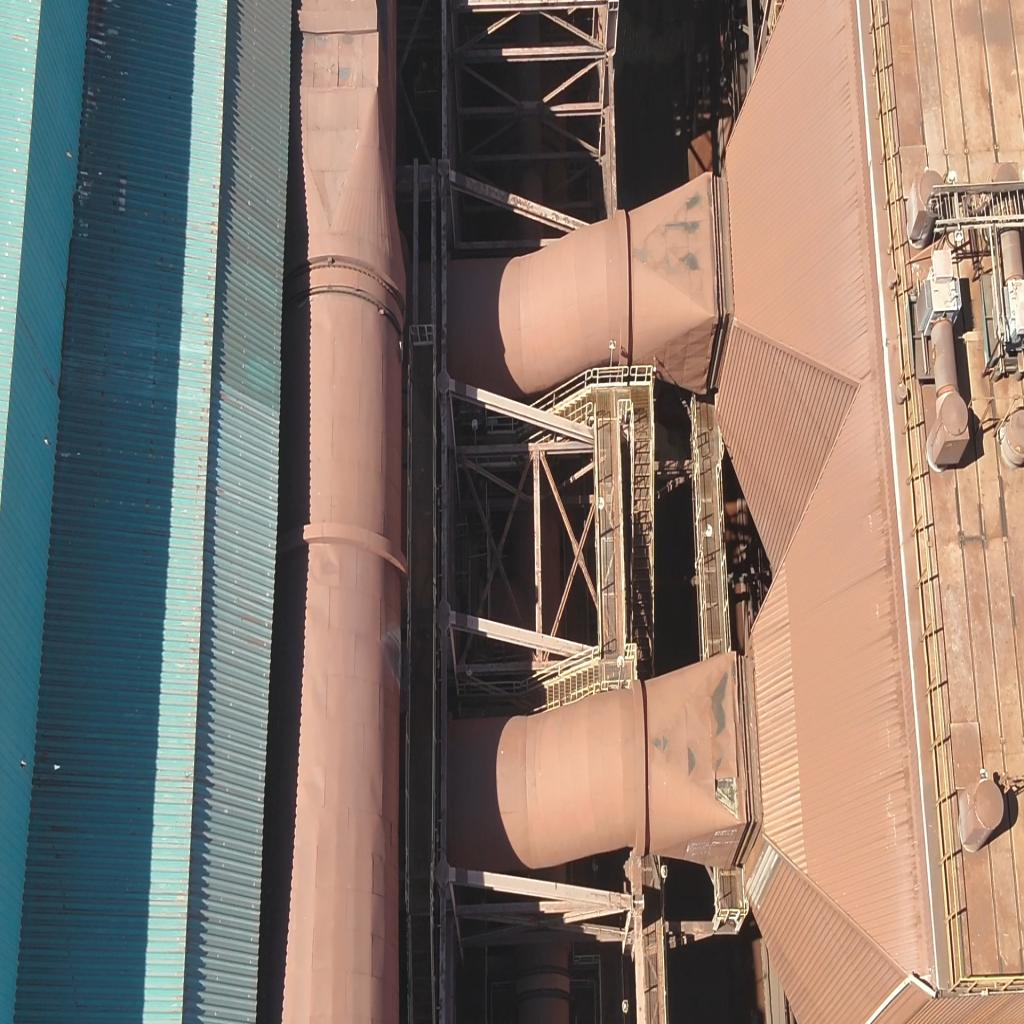Failures: (707, 766, 742, 816)
